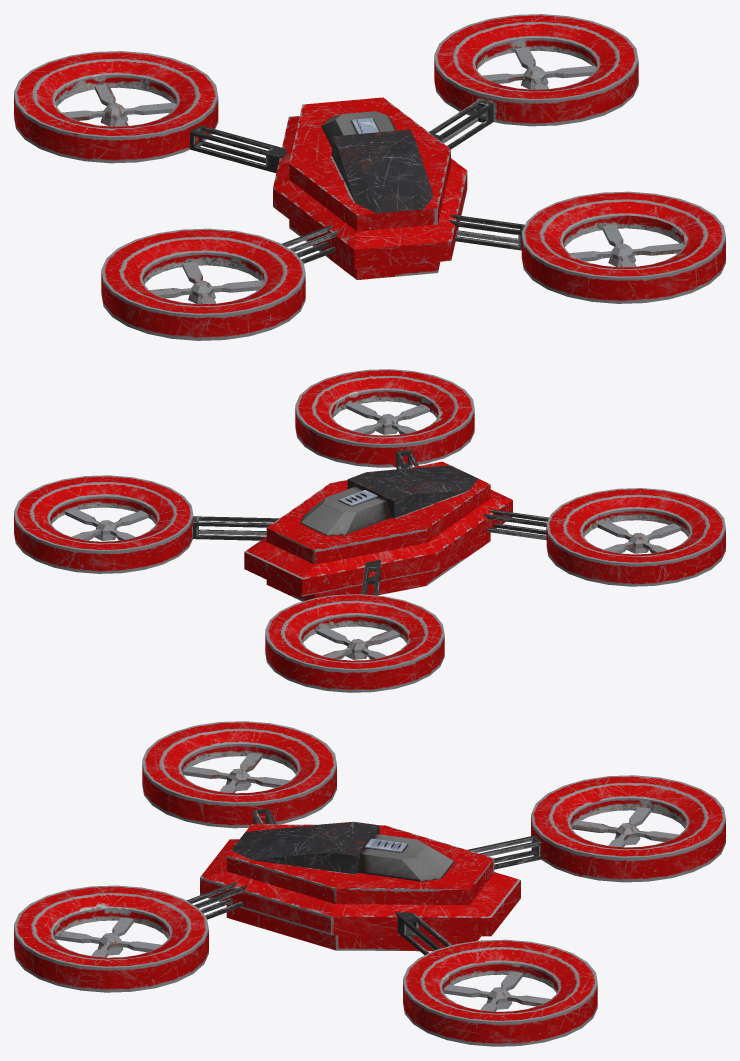
Rendered from testdrone.fbx.
3 renders of one model, top to bottom at view 1: azimuth 30°, elevation 25°; view 2: azimuth 150°, elevation 25°; view 3: azimuth 270°, elevation 25°, orthographic. The views are drawn at different scales.
Parts seen in each view (by area): view 1: FDDroid.001; view 2: FDDroid.001; view 3: FDDroid.001.
Boxes of the visible parts, box(x1,y1,x2,y2) form: FDDroid.001: box(14, 14, 725, 340); FDDroid.001: box(14, 369, 725, 692); FDDroid.001: box(14, 721, 725, 1046).
Bounding box in the file's own units: 522 × 65 × 522.
